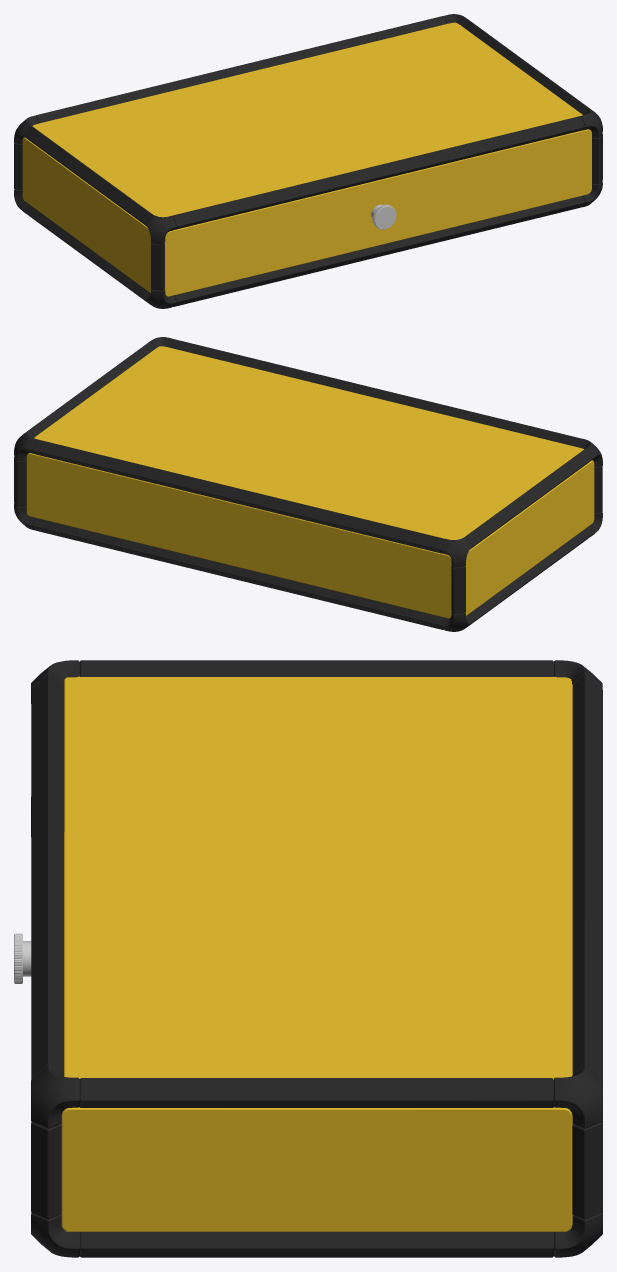
3 renders of one model, top to bottom at view 1: azimuth 30°, elevation 25°; view 2: azimuth 150°, elevation 25°; view 3: azimuth 270°, elevation 25°, orthographic. The views are drawn at different scales.
Parts seen in each view (by area): view 1: 729x374x79; view 2: 729x374x79; view 3: 729x374x79.
Part boxes in pixels (left/top/right/bottom): 729x374x79: left=14, top=14, right=602, bottom=308; 729x374x79: left=14, top=337, right=602, bottom=631; 729x374x79: left=14, top=660, right=602, bottom=1257.
Bounding box in the file's own units: 0.8067 × 0.1565 × 0.4646.
